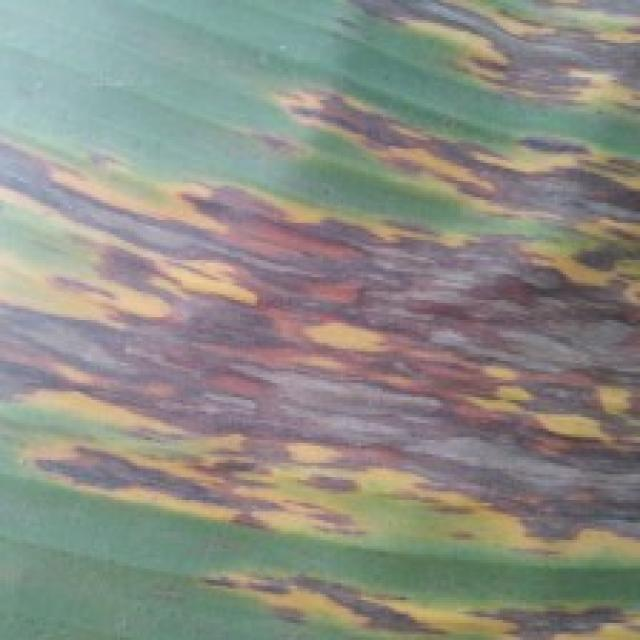Early_leaf_spot: (0, 110, 640, 557), (203, 57, 640, 254), (194, 523, 640, 640), (325, 0, 640, 125)
